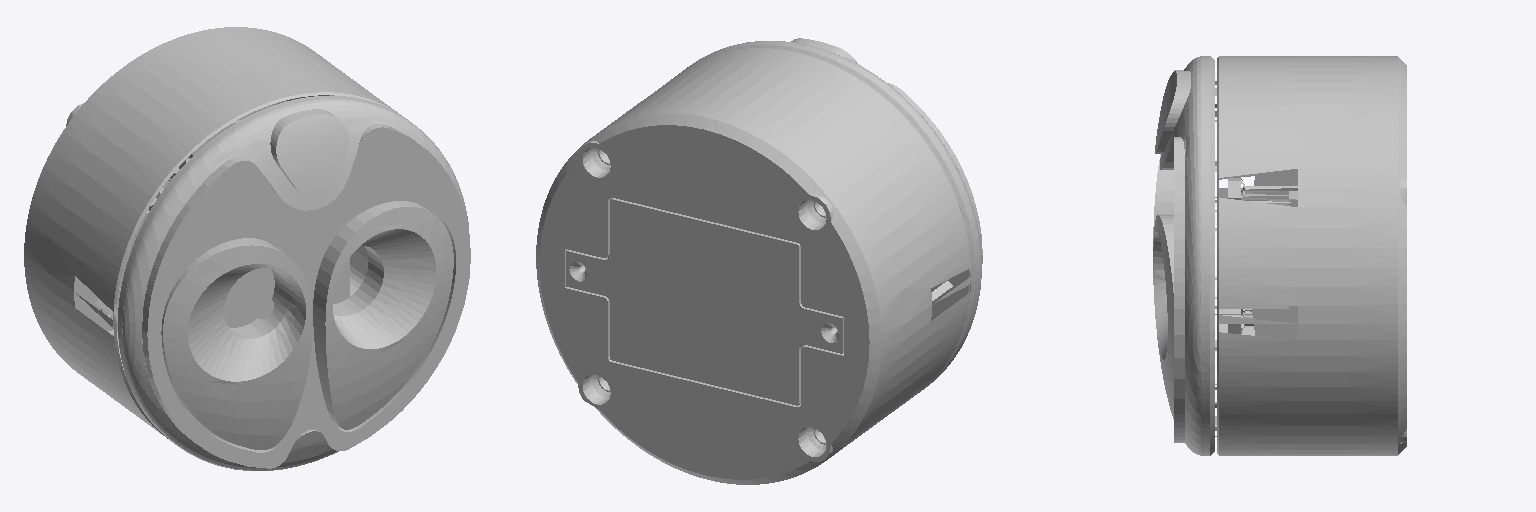
Rendered from Beetle.obj.
The picture shows the model from 3 angles: view 1: azimuth 30°, elevation 25°; view 2: azimuth 150°, elevation 25°; view 3: azimuth 270°, elevation 25°; orthographic projection.
Visible parts, largest first — view 1: object_4, object_1, object_2, object_7, object_6; view 2: object_2, object_3, object_7, object_4, object_1; view 3: object_2, object_7, object_4, object_1.
Boxes of the visible parts, x1,y1,x2,y2 form: object_4: [118, 96, 468, 470]; object_1: [142, 124, 470, 468]; object_2: [24, 27, 368, 405]; object_7: [75, 64, 400, 438]; object_6: [149, 159, 349, 327]; object_2: [536, 77, 931, 484]; object_3: [566, 198, 843, 405]; object_7: [651, 48, 970, 419]; object_4: [687, 38, 981, 392]; object_1: [888, 83, 982, 278]; object_2: [1298, 56, 1406, 455]; object_7: [1215, 56, 1297, 455]; object_4: [1153, 56, 1214, 455]; object_1: [1174, 70, 1184, 442].
Size of the model in its own units: 87.89 by 87.89 by 55.87.